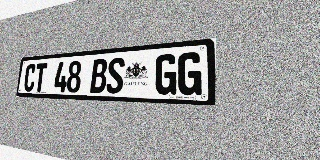4: (53, 61, 69, 92)
8: (66, 60, 82, 93)
B: (90, 58, 108, 93)
C: (23, 64, 36, 92)
G: (177, 51, 202, 95), (154, 53, 178, 95)
S: (106, 57, 125, 94)
T: (34, 63, 47, 92)
